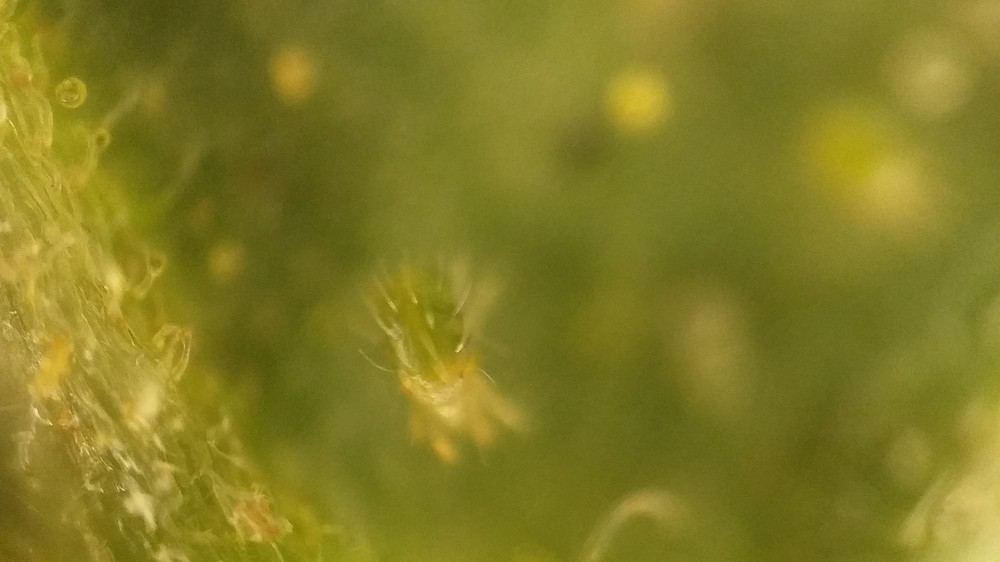Aracnido Rojo: (323, 233, 564, 497)
